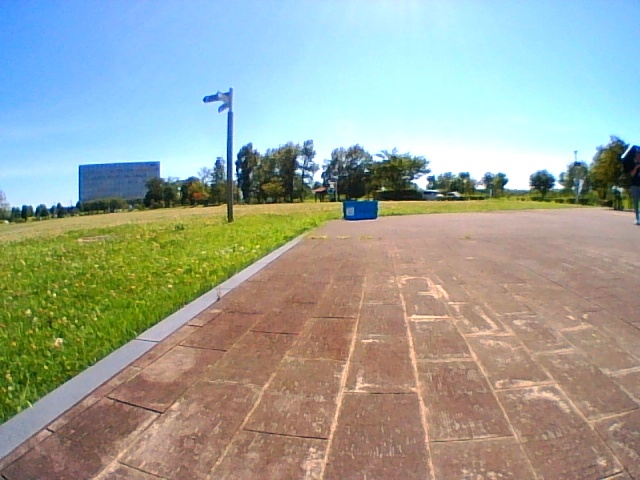blue_box: (343, 201, 377, 220)
tag: (346, 207, 353, 215)
